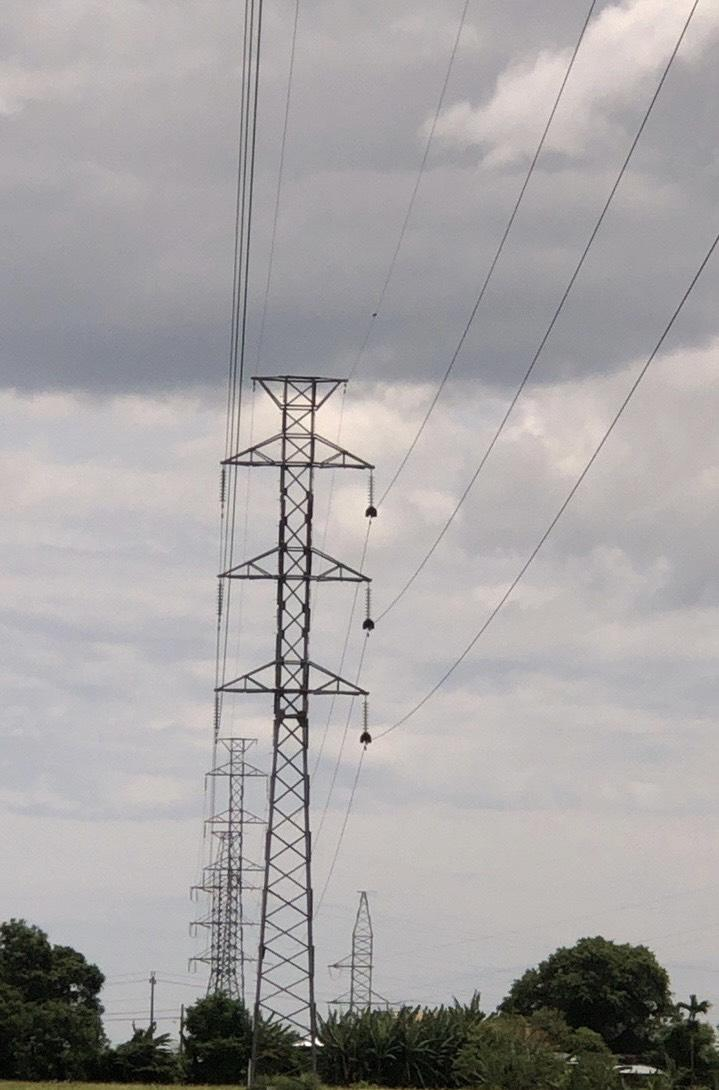power_tower: (213, 355, 360, 1080)
